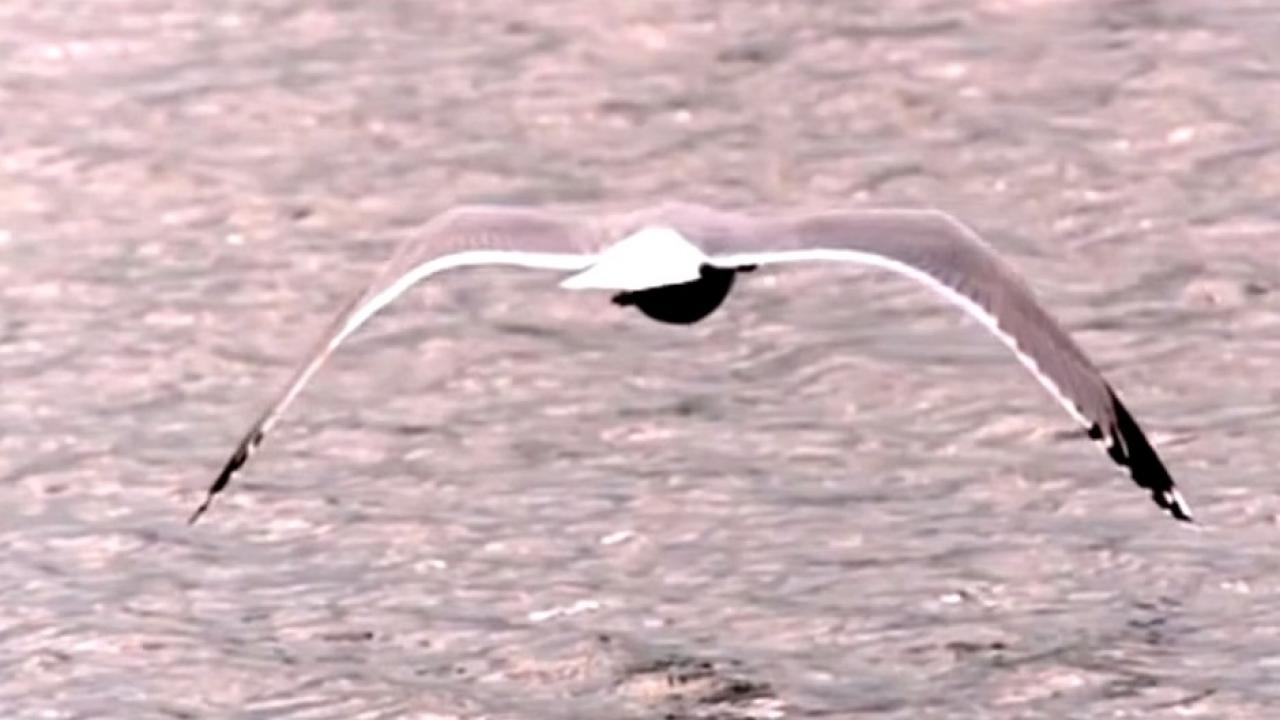Bird: (174, 174, 1207, 554)
